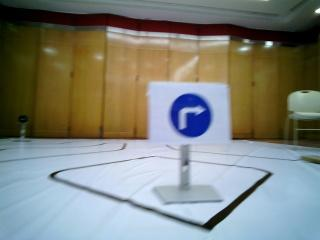right: (152, 82, 225, 145)
